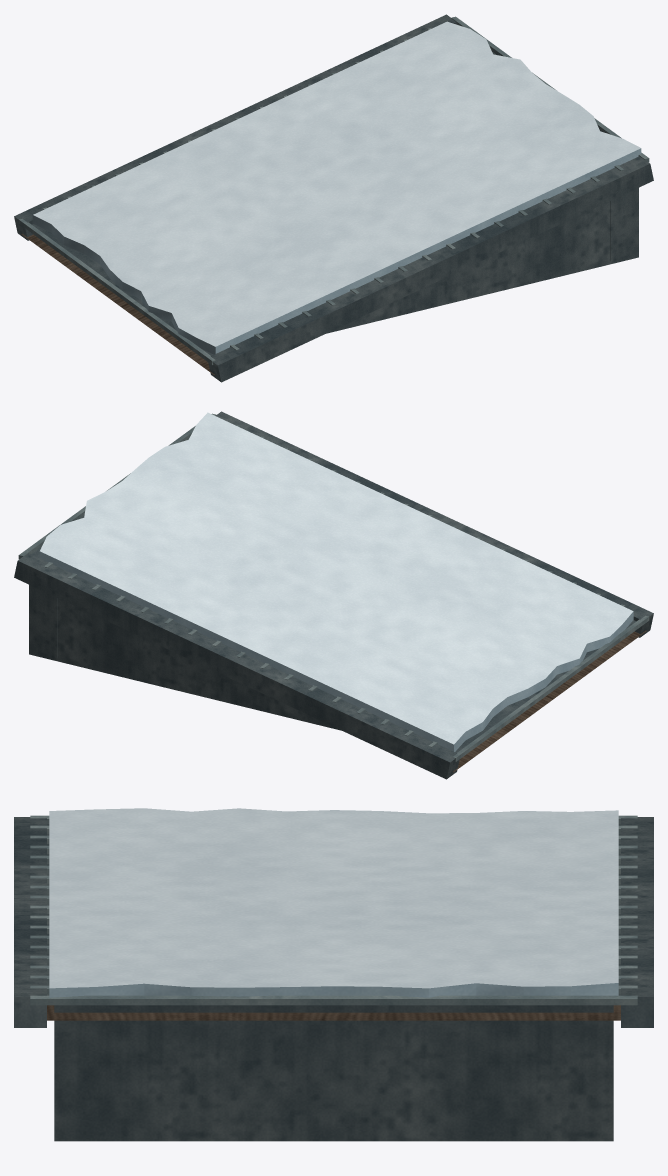
The model's file is 06_Cabin_Lean_To_Roof.obj.
The picture shows the model from 3 angles, top to bottom: view 1: azimuth 30°, elevation 25°; view 2: azimuth 150°, elevation 25°; view 3: azimuth 270°, elevation 25°; orthographic projection. The views are drawn at different scales.
Visible parts, largest first — view 1: 06_Cabin_Lean_To_Roof; view 2: 06_Cabin_Lean_To_Roof; view 3: 06_Cabin_Lean_To_Roof.
Part boxes in pixels (box(x1,y1,x2,y2)): 06_Cabin_Lean_To_Roof: box(14, 14, 653, 382); 06_Cabin_Lean_To_Roof: box(14, 411, 653, 779); 06_Cabin_Lean_To_Roof: box(14, 808, 653, 1141).
Size of the model in its own units: 3.13 by 0.8282 by 2.53.
Materials: 5 (5 with a texture image).
